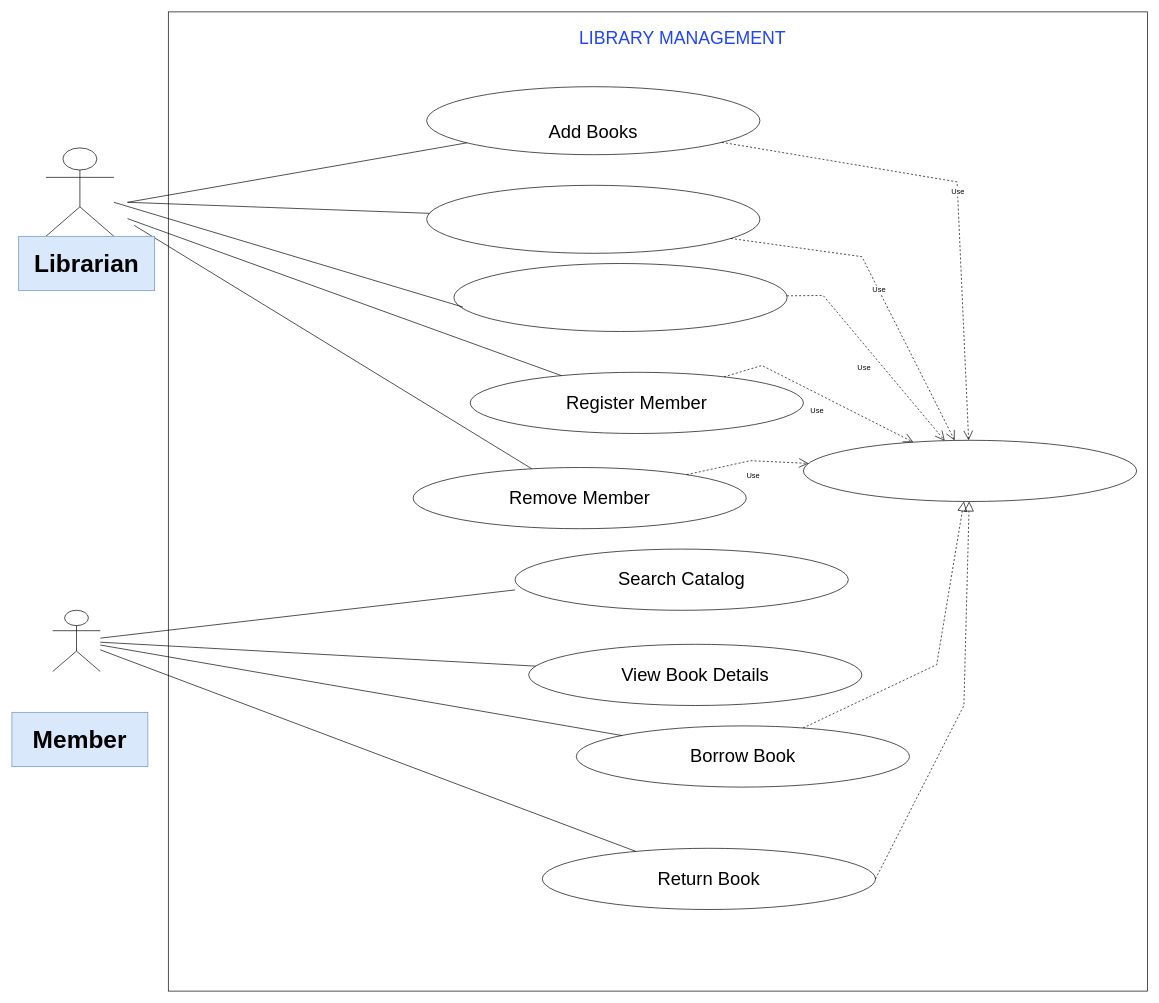
The diagram is 1159 pixels wide and 1003 high, and some of its shapes have lost their labels. Here are the shapes that lost their labels. From the top down, the centre of each, then its label:
At (593,219): "Remove Books".
At (620,297): "Update Book Details".
At (970,471): "AUTHENTICATION".
At (76,641): "Actor".
